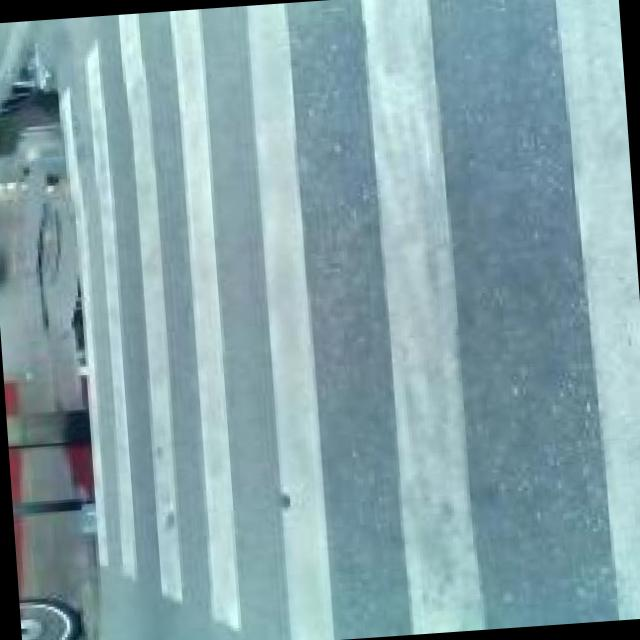zebra: (45, 0, 640, 640)
